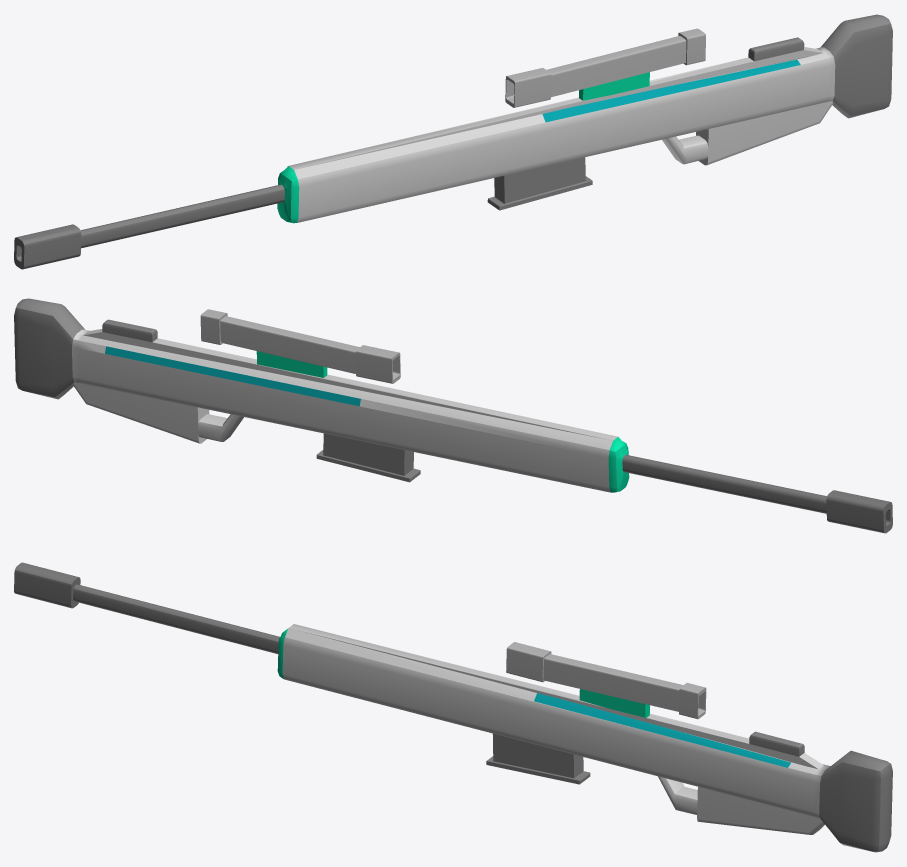
Rendered from TechnoScharfschützenGewehr.fbx.
3 views of the same model, one above another, from view 1: azimuth 30°, elevation 25°; view 2: azimuth 150°, elevation 25°; view 3: azimuth 330°, elevation 25° (orthographic). The views are drawn at different scales.
Visible parts, largest first — view 1: pCube1, pCube3, pCube2; view 2: pCube1, pCube3, pCube2; view 3: pCube1, pCube3, pCube2.
Boxes of the visible parts, <box> form: pCube1: <box>14,14,892,269</box>; pCube3: <box>662,101,833,165</box>; pCube2: <box>487,157,592,210</box>; pCube1: <box>14,298,892,533</box>; pCube3: <box>72,382,243,443</box>; pCube2: <box>316,433,420,482</box>; pCube1: <box>14,562,892,852</box>; pCube3: <box>658,776,824,834</box>; pCube2: <box>486,733,590,784</box>.
Size of the model in its own units: 6.15 by 0.8907 by 0.2784.
